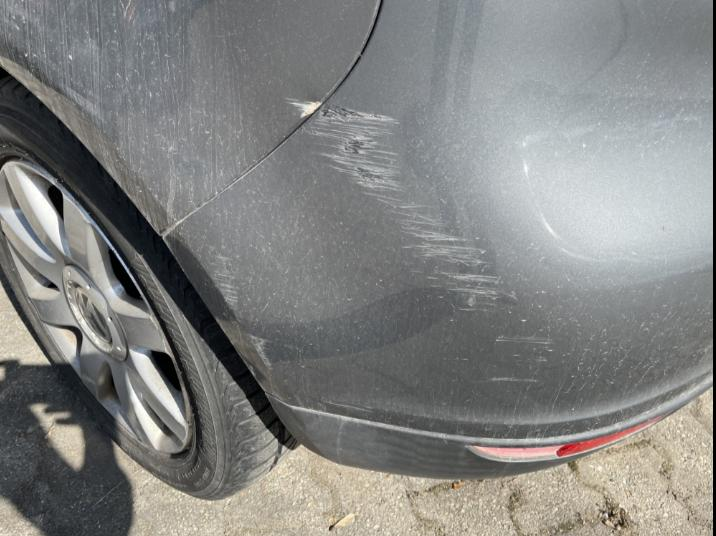Back-bumper: (164, 1, 715, 479)
Back-wheel: (0, 78, 301, 501)
Quarter-panel: (1, 0, 381, 236)
